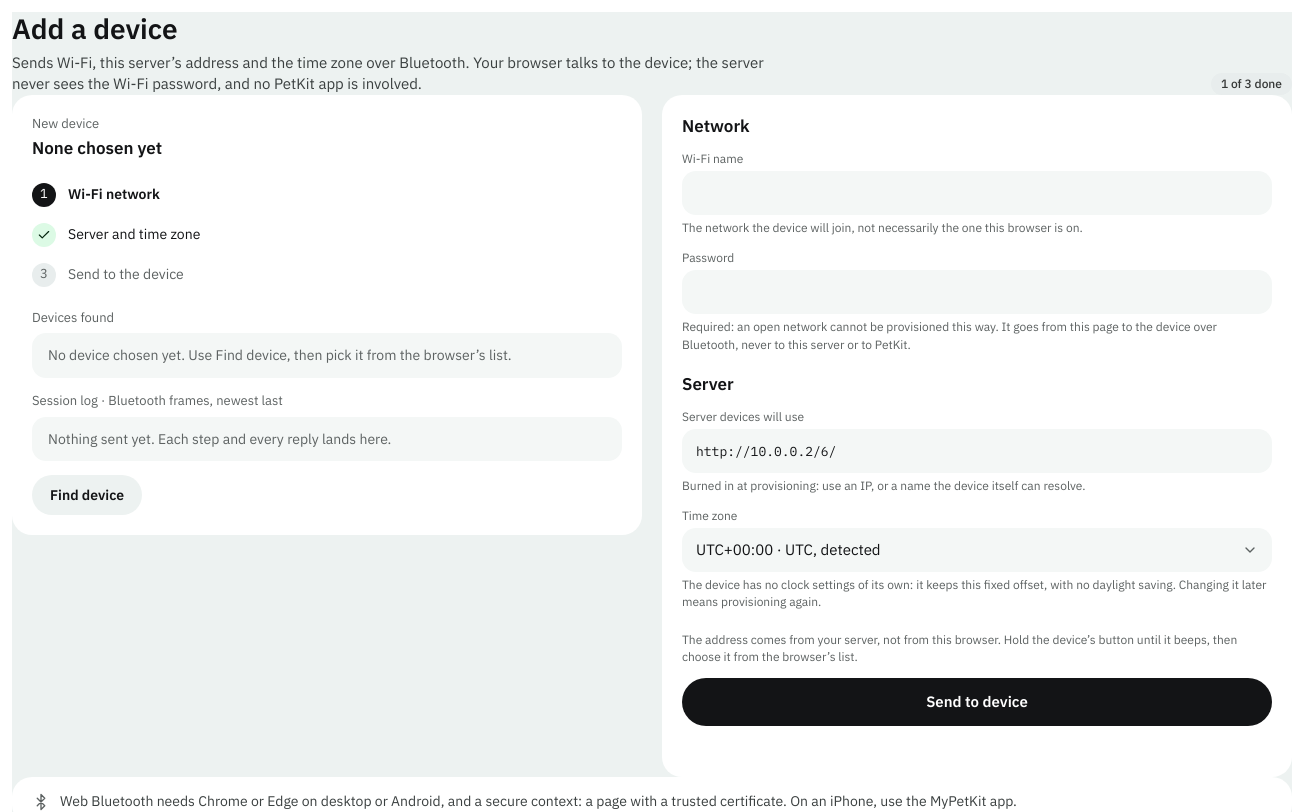
Test: ProvisionPage › reports a cancelled chooser in words
The image size is (1292, 812).
Click the button "Find device".
click(87, 495)  # box [32, 475, 142, 515]
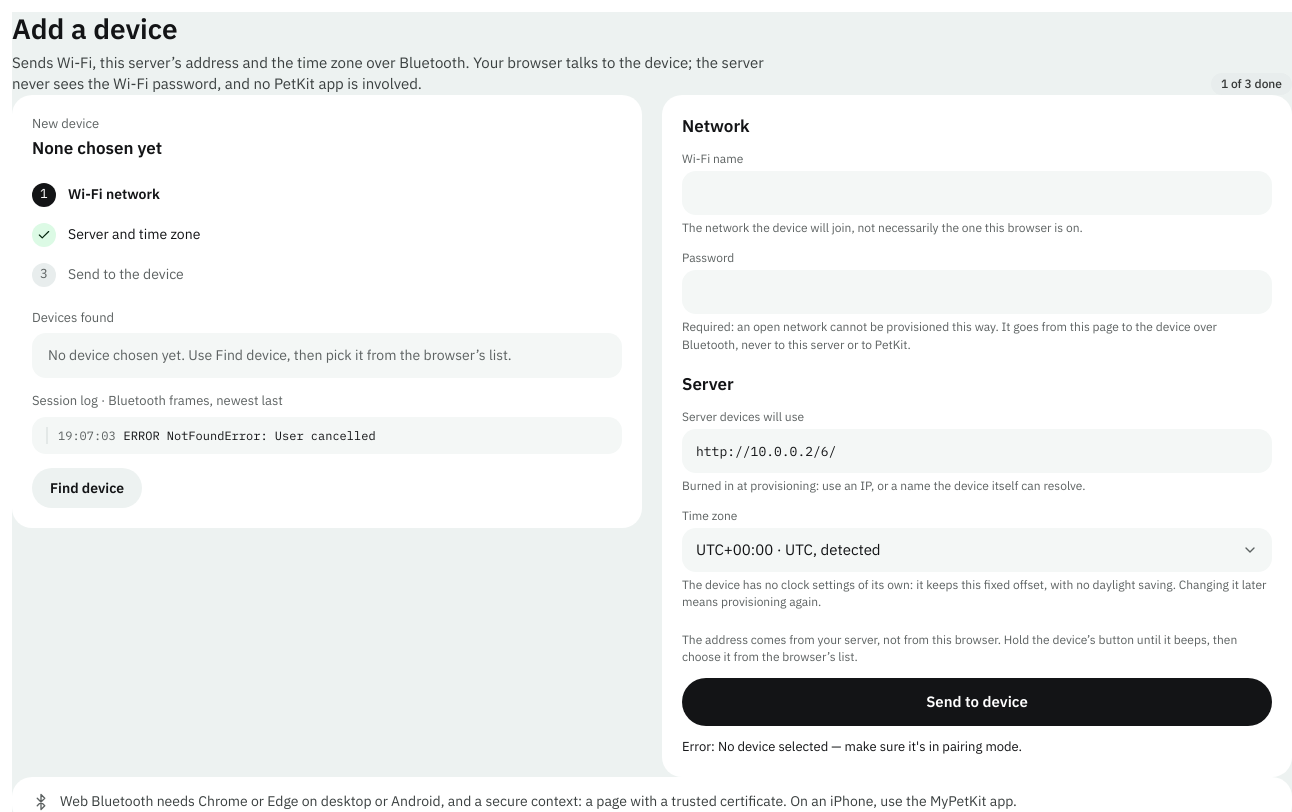
Now the message reads "Error: No device selected — make sure it's in pairing mode.", box [682, 738, 1022, 755]
Now the element showing "19:07:03ERROR NotFoundError: User cancelled" is shown, box [32, 417, 622, 454]
